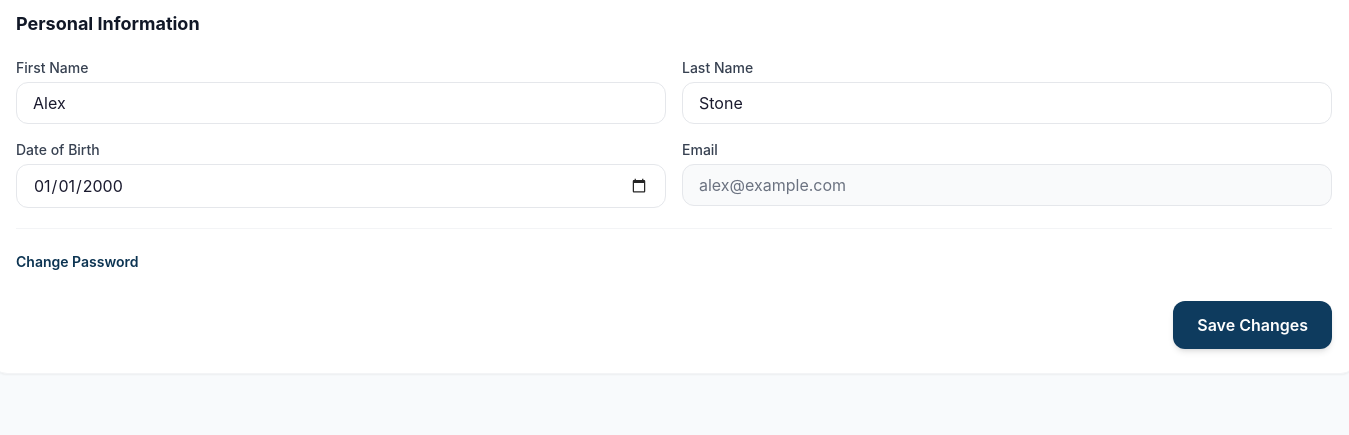
Test case: ProfileEditForm submit flow › treats metadata sync warnings as partial success when the route reports partial_metadata_sync
This screenshot has width=1349, height=435.
Click the button with test id "profile-save" at (1253, 325), box [1173, 301, 1332, 349]
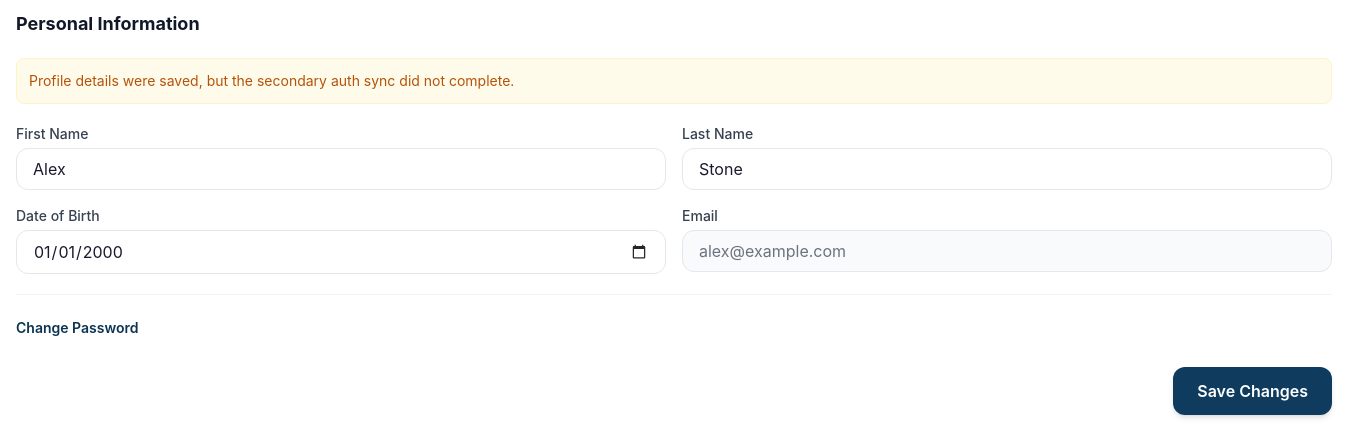
Now the text "Profile details were saved, but the secondary auth sync did not complete." is shown, box [16, 58, 1332, 104]
